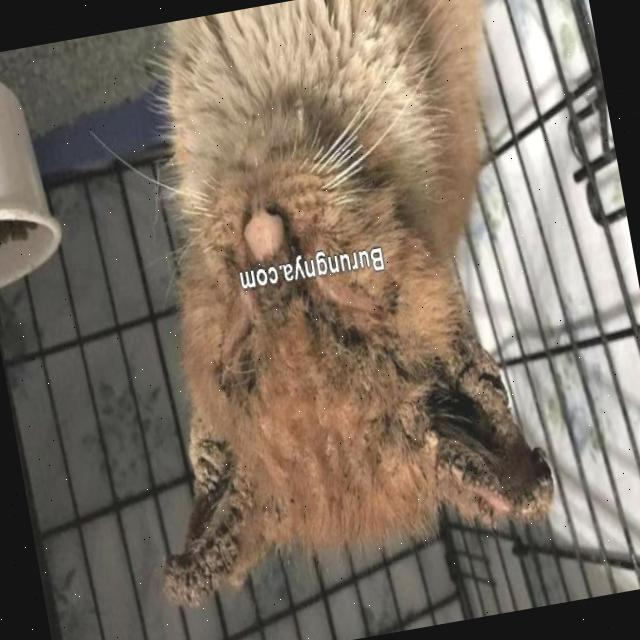cat-scabies: (426, 412, 530, 532), (192, 452, 233, 540), (172, 552, 232, 600), (454, 350, 496, 403)
